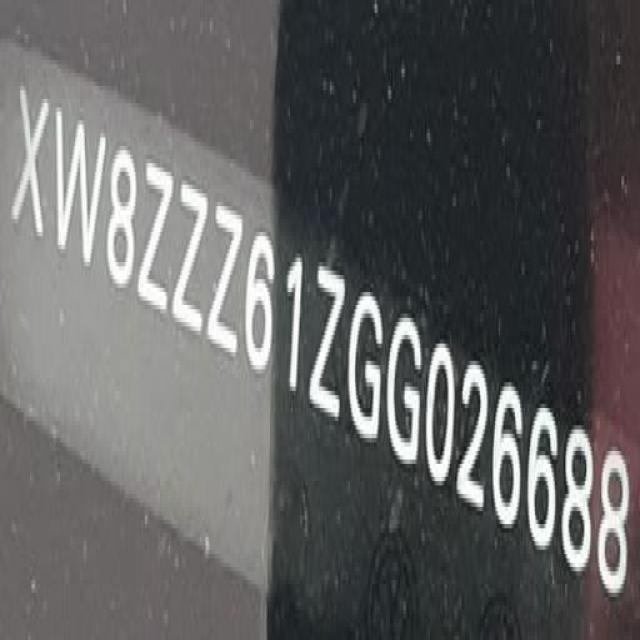0: (424, 334, 457, 497)
1: (285, 237, 308, 417)
2: (459, 350, 491, 520)
6: (526, 393, 560, 561), (245, 220, 278, 380), (491, 377, 522, 538)
8: (561, 410, 594, 582), (600, 438, 634, 603), (107, 137, 139, 300)
G: (346, 272, 386, 454), (387, 295, 427, 476)
W: (52, 105, 108, 288)
X: (11, 75, 54, 259)
Z: (311, 250, 347, 435), (209, 194, 245, 366), (175, 171, 210, 346), (136, 156, 172, 326)
